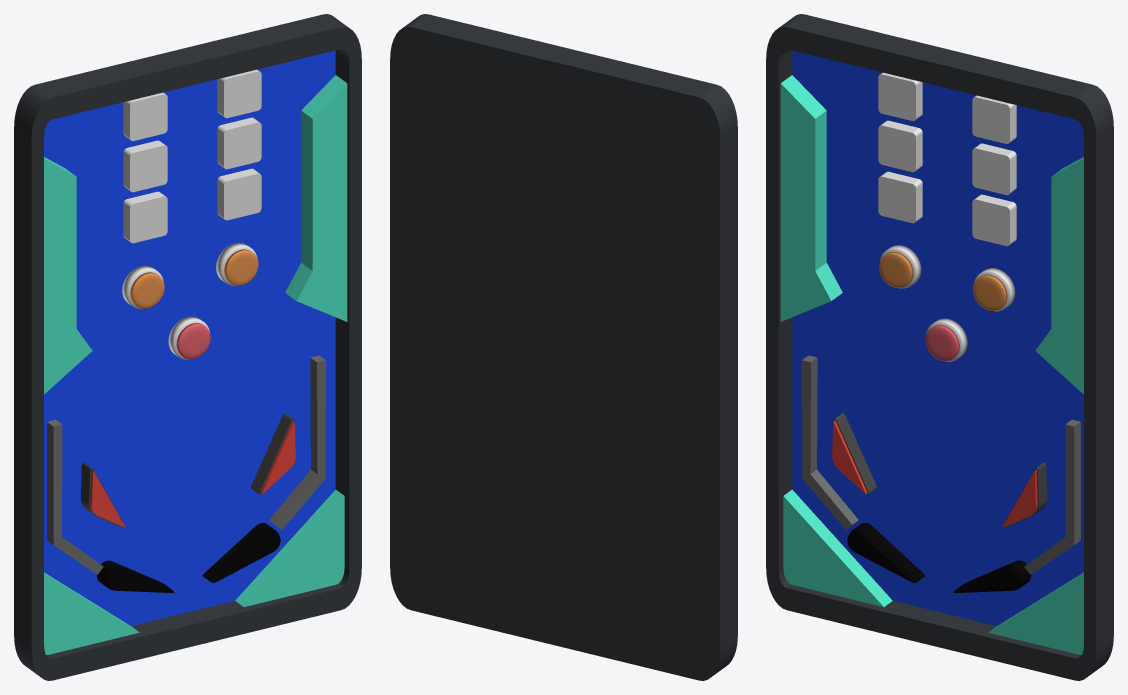
File: PinBall.dae
3 views of the same model, side by side, from view 1: azimuth 30°, elevation 25°; view 2: azimuth 150°, elevation 25°; view 3: azimuth 330°, elevation 25° (orthographic).
Parts seen in each view (by area): view 1: Cube, Cube.001, Cube.002, Cube.004, Cube.005, Cube.003, Cylinder, Cube.006, Cylinder.001, Cube.007; view 2: Cube; view 3: Cube, Cube.001, Cube.002, Cube.004, Cube.005, Cube.003, Cylinder, Cube.007, Cylinder.001, Cube.006.
Boxes of the visible parts, <box> form: Cube: <box>14,14,361,680</box>; Cube.001: <box>44,75,347,394</box>; Cube.002: <box>123,69,261,243</box>; Cube.004: <box>44,489,344,654</box>; Cube.005: <box>47,355,325,574</box>; Cube.003: <box>80,413,295,527</box>; Cylinder: <box>122,242,258,308</box>; Cube.006: <box>202,523,280,582</box>; Cylinder.001: <box>168,316,210,359</box>; Cube.007: <box>96,560,174,592</box>; Cube: <box>390,14,737,680</box>; Cube: <box>766,14,1113,680</box>; Cube.001: <box>780,75,1083,394</box>; Cube.002: <box>878,72,1016,246</box>; Cube.004: <box>783,489,1083,654</box>; Cube.005: <box>802,355,1080,574</box>; Cube.003: <box>832,413,1047,527</box>; Cylinder: <box>879,245,1015,311</box>; Cube.007: <box>847,523,925,582</box>; Cylinder.001: <box>925,318,967,361</box>; Cube.006: <box>953,560,1031,592</box>.
Size of the model in its own units: 17.59 by 1.61 by 29.68.
